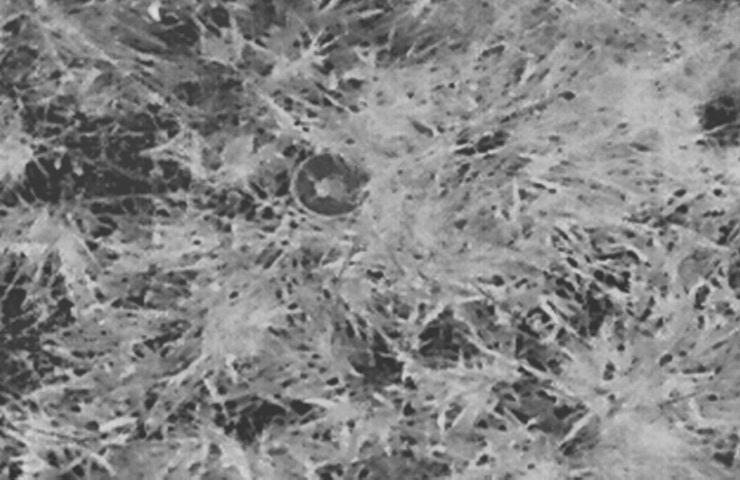landmines: (286, 145, 375, 221)
